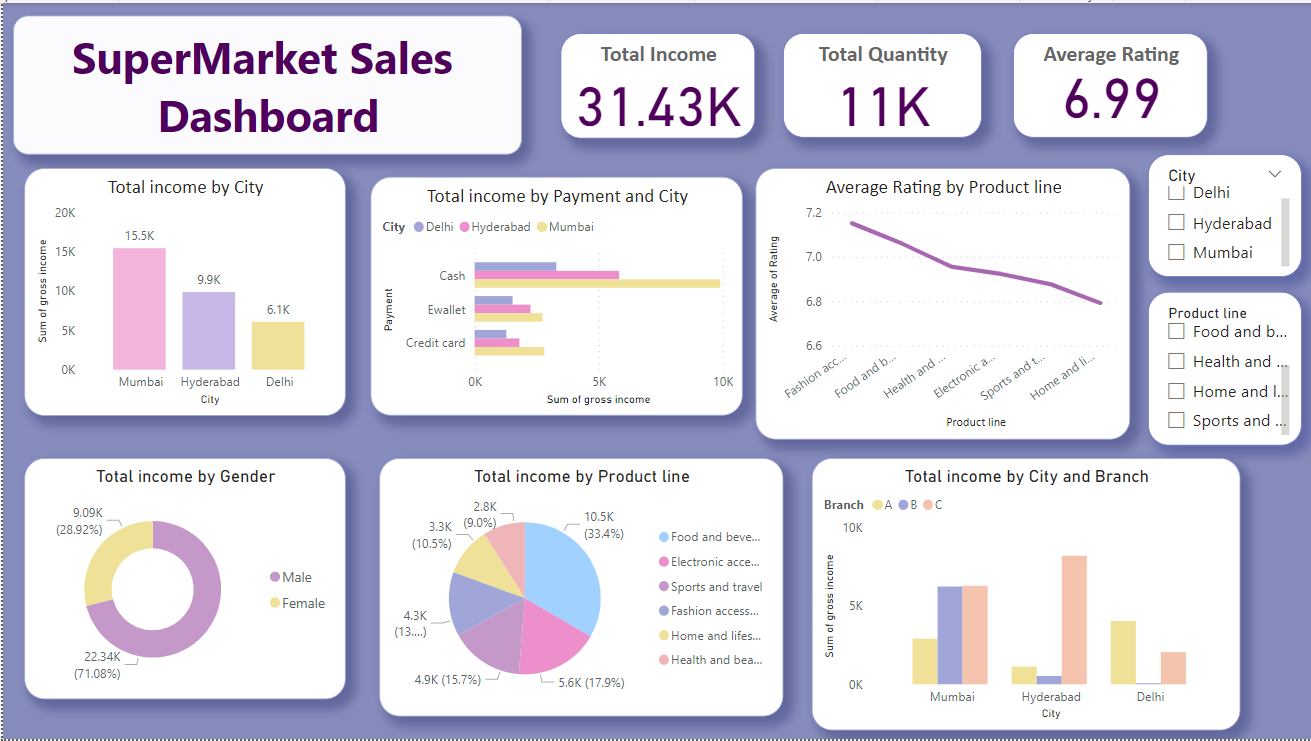

The page's visual inventory and layout, read from the dashboard file:
{"tool":"powerbi","page":{"name":"dashboard","canvas":[1280,720],"ordinal":0},"visuals":[{"type":"textbox","box":[9.8,12.2,497.5,135.7],"z":0},{"type":"card","title":"Total Income","fields":{"Values":["Sum(SuperstoreSales_Dataset xlsx+-+finalSuperstoreSales csv+(1).gross income)"]},"box":[544.8,28.8,190.7,102.9],"z":1000},{"type":"card","title":"Average Rating","fields":{"Values":["Avg(SuperstoreSales_Dataset xlsx+-+finalSuperstoreSales csv+(1).Rating)"]},"box":[987.7,29.3,190.7,102.7],"z":2000},{"type":"card","title":"Total Quantity","fields":{"Values":["Sum(SuperstoreSales_Dataset xlsx+-+finalSuperstoreSales csv+(1).Quantity)"]},"box":[762.8,29.3,194.4,102.7],"z":3000},{"type":"columnChart","title":"Total income by City","fields":{"Y":["Sum(SuperstoreSales_Dataset xlsx+-+finalSuperstoreSales csv+(1).gross income)"],"Category":["SuperstoreSales_Dataset xlsx+-+finalSuperstoreSales csv+(1).City"]},"box":[20.8,161.4,314.2,242],"z":4000},{"type":"clusteredBarChart","title":"Total income by Payment and City","fields":{"Category":["SuperstoreSales_Dataset xlsx+-+finalSuperstoreSales csv+(1).Payment"],"Series":["SuperstoreSales_Dataset xlsx+-+finalSuperstoreSales csv+(1).City"],"Y":["Sum(SuperstoreSales_Dataset xlsx+-+finalSuperstoreSales csv+(1).gross income)"]},"box":[359.4,169.9,364.3,233.5],"z":5000},{"type":"lineChart","title":"Average Rating by Product line","fields":{"Y":["Avg(SuperstoreSales_Dataset xlsx+-+finalSuperstoreSales csv+(1).Rating)"],"Category":["SuperstoreSales_Dataset xlsx+-+finalSuperstoreSales csv+(1).Product line"]},"box":[735.9,161.4,366.7,265.3],"z":6000},{"type":"pieChart","title":"Total income by Product line","fields":{"Y":["Sum(SuperstoreSales_Dataset xlsx+-+finalSuperstoreSales csv+(1).gross income)"],"Category":["SuperstoreSales_Dataset xlsx+-+finalSuperstoreSales csv+(1).Product line"]},"box":[367.9,445,394.8,253],"z":7000},{"type":"donutChart","title":"Total income by Gender","fields":{"Category":["SuperstoreSales_Dataset xlsx+-+finalSuperstoreSales csv+(1).Gender"],"Y":["Sum(SuperstoreSales_Dataset xlsx+-+finalSuperstoreSales csv+(1).gross income)"]},"box":[20.8,445,314.2,235.9],"z":8000},{"type":"slicer","fields":{"Values":["SuperstoreSales_Dataset xlsx+-+finalSuperstoreSales csv+(1).City"]},"box":[1119.7,147.9,150.4,119.8],"z":9000},{"type":"slicer","fields":{"Values":["SuperstoreSales_Dataset xlsx+-+finalSuperstoreSales csv+(1).Product line"]},"box":[1119.7,282.4,150.4,150.4],"z":10000},{"type":"clusteredColumnChart","title":"Total income by City and Branch","fields":{"Y":["Sum(SuperstoreSales_Dataset xlsx+-+finalSuperstoreSales csv+(1).gross income)"],"Category":["SuperstoreSales_Dataset xlsx+-+finalSuperstoreSales csv+(1).City"],"Series":["SuperstoreSales_Dataset xlsx+-+finalSuperstoreSales csv+(1).Branch"]},"box":[790.9,445,419.3,266.5],"z":11000}]}

Visuals, with their boxes in screenshot pixels (x1, y1, x2, y2), scaled from the page's 1280x720 canvas onto the 1311x741 screenshot:
textbox: pyautogui.locateOnScreen(10, 13, 520, 152)
"Total Income" card: pyautogui.locateOnScreen(558, 30, 753, 136)
"Average Rating" card: pyautogui.locateOnScreen(1012, 30, 1207, 136)
"Total Quantity" card: pyautogui.locateOnScreen(781, 30, 980, 136)
"Total income by City" columnChart: pyautogui.locateOnScreen(21, 166, 343, 415)
"Total income by Payment and City" clusteredBarChart: pyautogui.locateOnScreen(368, 175, 741, 415)
"Average Rating by Product line" lineChart: pyautogui.locateOnScreen(754, 166, 1129, 439)
"Total income by Product line" pieChart: pyautogui.locateOnScreen(377, 458, 781, 718)
"Total income by Gender" donutChart: pyautogui.locateOnScreen(21, 458, 343, 701)
slicer - SuperstoreSales_Dataset xlsx+-+finalSuperstoreSales csv+(1).City: pyautogui.locateOnScreen(1147, 152, 1301, 276)
slicer - SuperstoreSales_Dataset xlsx+-+finalSuperstoreSales csv+(1).Product line: pyautogui.locateOnScreen(1147, 291, 1301, 445)
"Total income by City and Branch" clusteredColumnChart: pyautogui.locateOnScreen(810, 458, 1240, 732)
